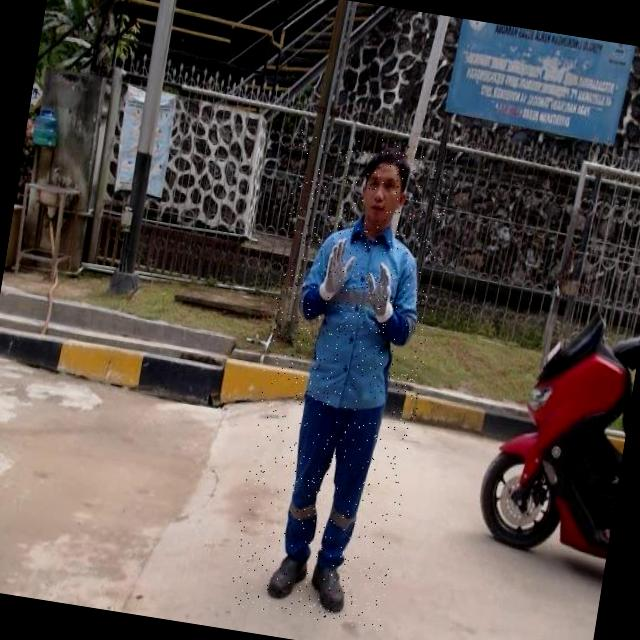boots: (304, 558, 352, 616), (262, 552, 308, 612)
gloves: (352, 255, 402, 344), (308, 237, 355, 314)
no-helmet: (335, 134, 428, 249)
no-vest: (279, 220, 422, 432)
